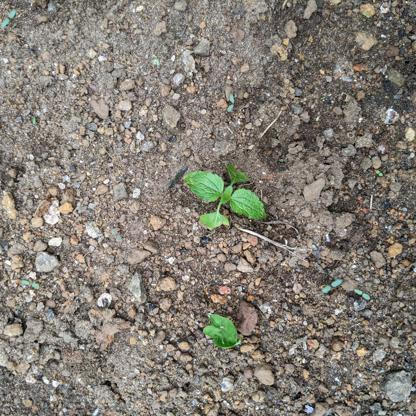weed: (182, 161, 268, 233), (201, 308, 242, 350)
